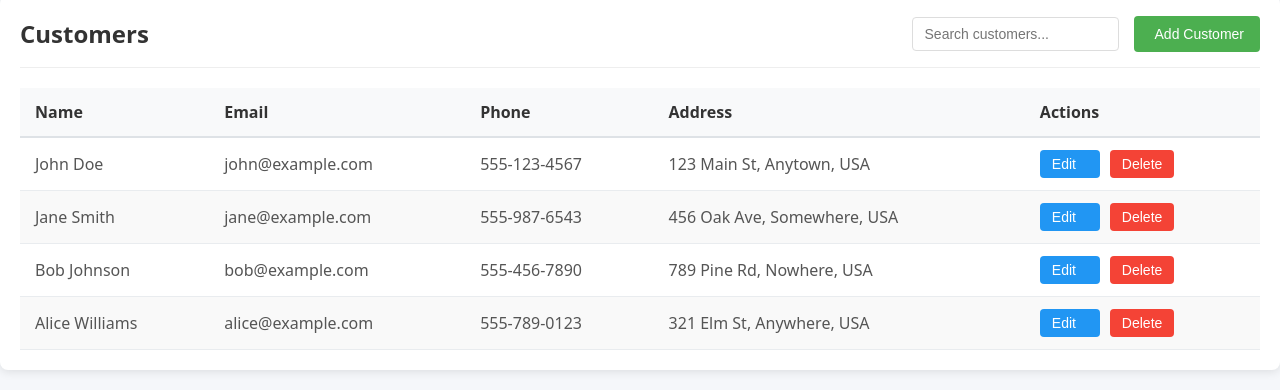
CustomerList Component › shows no customers message when filter has no results
// Search for a non-existent customer
Type "NonExistentCustomer" into the field with placeholder "Search customers...". click: point(1015, 34)
box: [912, 17, 1118, 51]
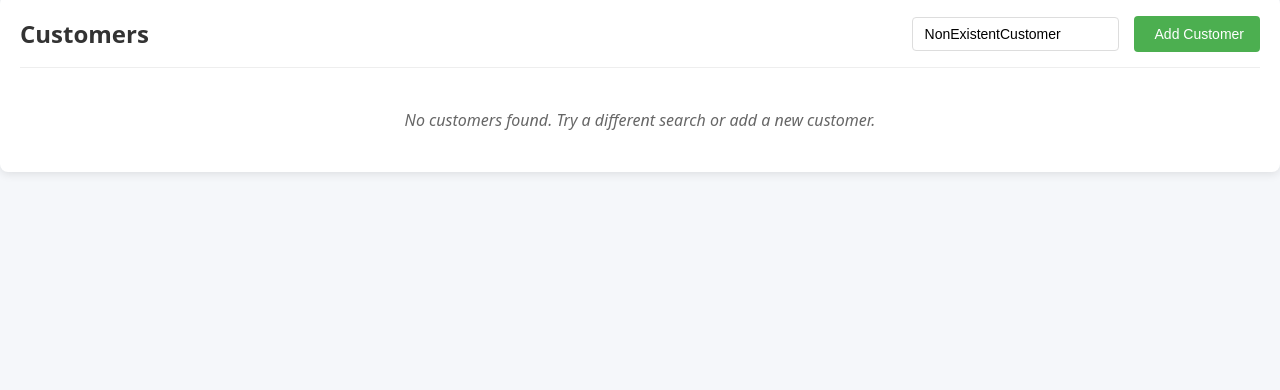
expect the text "No customers found" is shown: met, box [405, 109, 875, 131]
